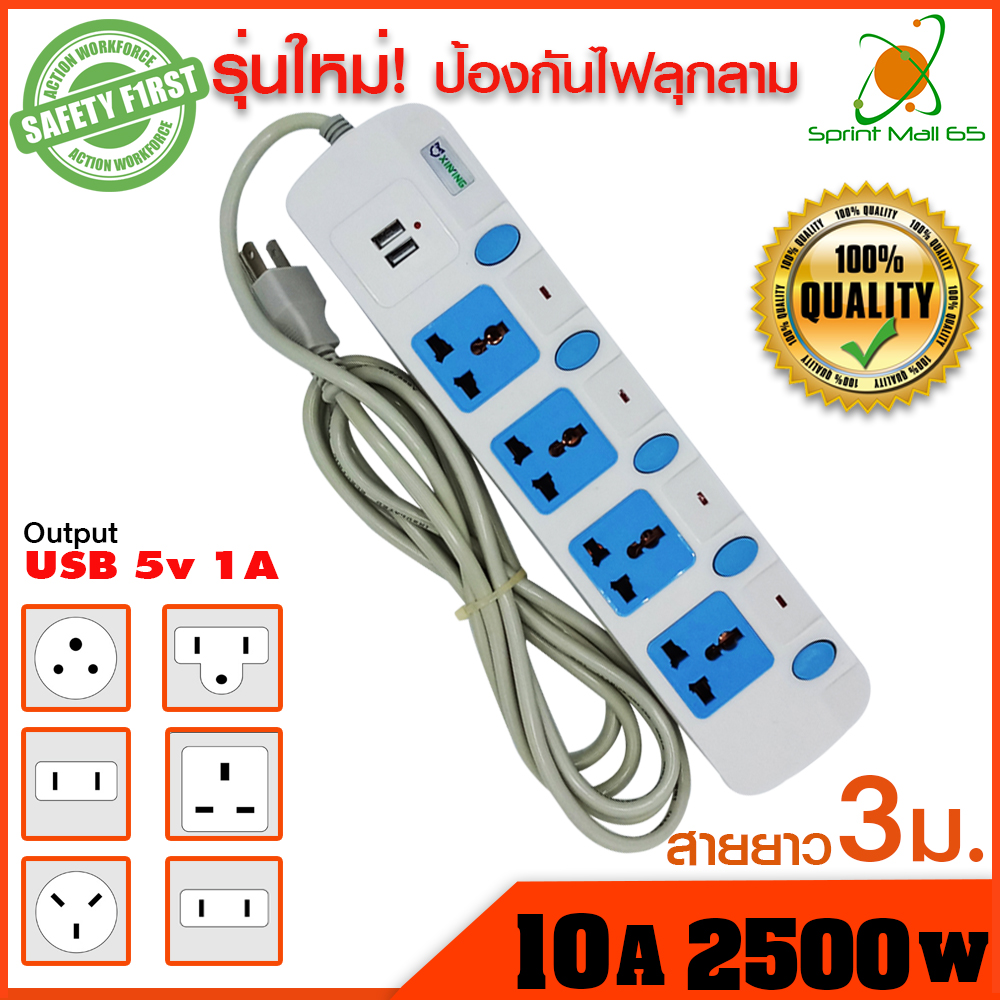Three_eye_plug: (261, 88, 884, 817)
